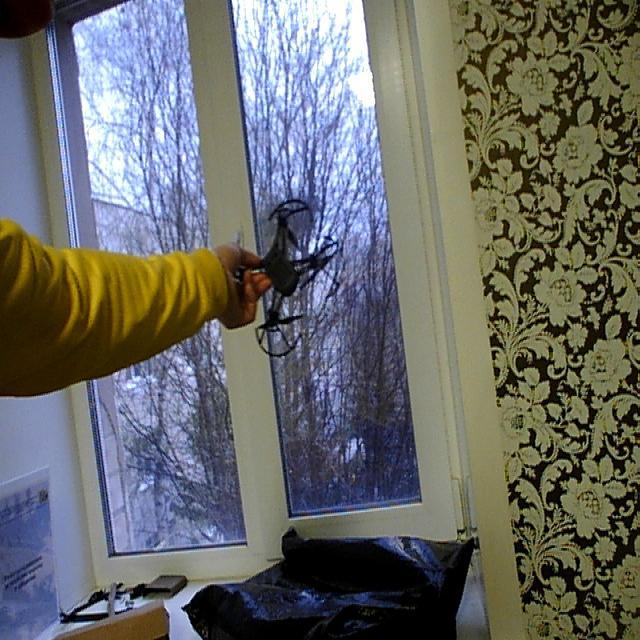drone: (222, 192, 354, 366)
